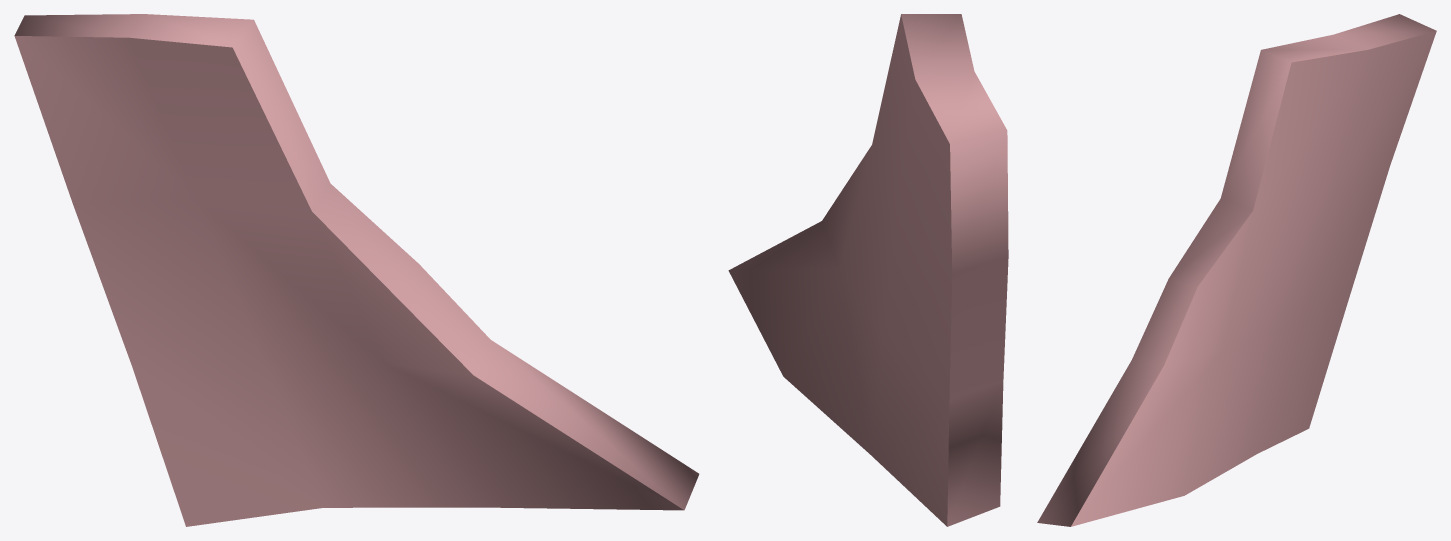
3 views of the same model, side by side, from view 1: azimuth 30°, elevation 25°; view 2: azimuth 150°, elevation 25°; view 3: azimuth 270°, elevation 25° (orthographic). The views are drawn at different scales.
Parts seen in each view (by area): view 1: ZA_827ed7ba8bc20f32; view 2: ZA_827ed7ba8bc20f32; view 3: ZA_827ed7ba8bc20f32.
Part boxes in pixels (x1,y1,x2,y2): ZA_827ed7ba8bc20f32: (14,14,699,526); ZA_827ed7ba8bc20f32: (728,14,1008,526); ZA_827ed7ba8bc20f32: (1037,14,1436,526).
Size of the model in its own units: 0.0275 by 0.0264 by 0.0247.
